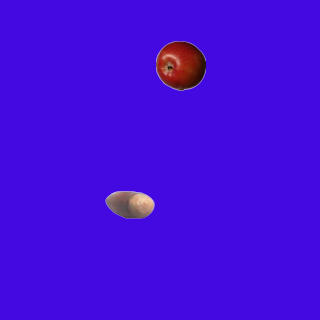Apple Braeburn: (155, 40, 205, 90)
Hazelnut: (104, 179, 154, 229)
